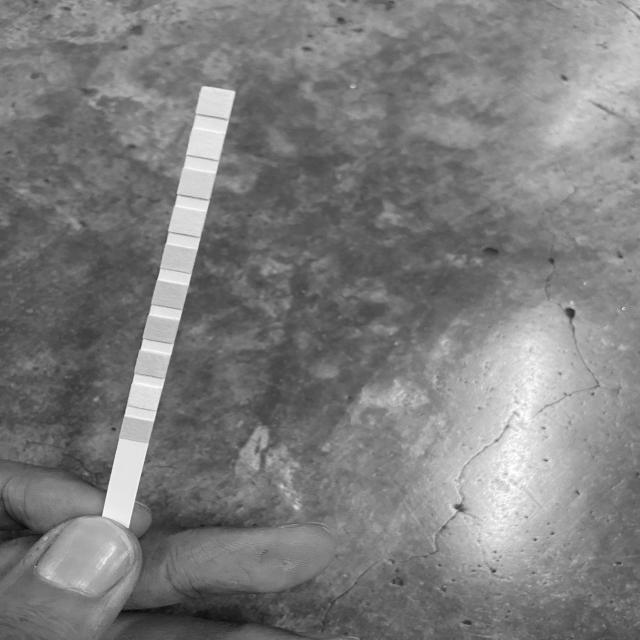Bilirubin: (132, 388, 158, 408)
Blood: (156, 284, 182, 304)
Glucose: (125, 421, 148, 438)
Ketone: (138, 354, 164, 374)
Leukocytes: (202, 90, 230, 116)
Nitrite: (192, 133, 220, 156)
Protein: (173, 210, 201, 233)
SpGravity: (148, 319, 174, 339)
Urobilinogen: (182, 172, 210, 195)
background: (0, 0, 640, 640)
pH: (166, 249, 192, 269)
strip: (102, 86, 236, 519)
